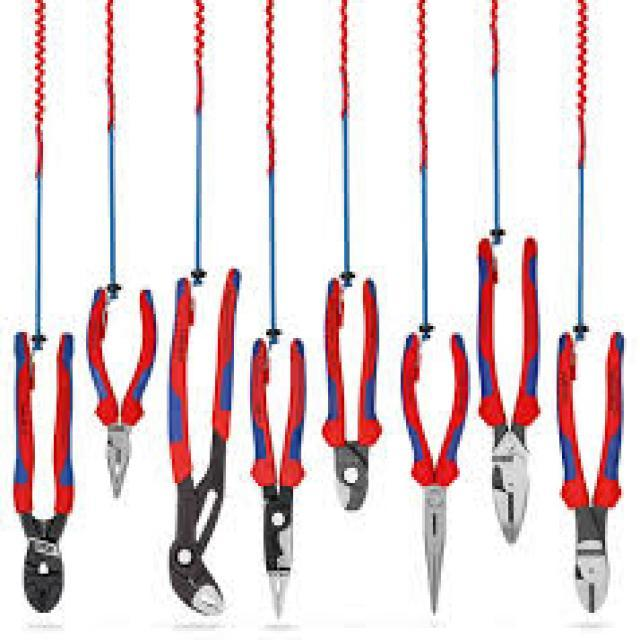pliers: (160, 260, 244, 622), (0, 324, 87, 626), (467, 230, 546, 554), (547, 324, 633, 619), (394, 323, 476, 617), (78, 275, 166, 505), (244, 333, 314, 622), (310, 268, 388, 518)
